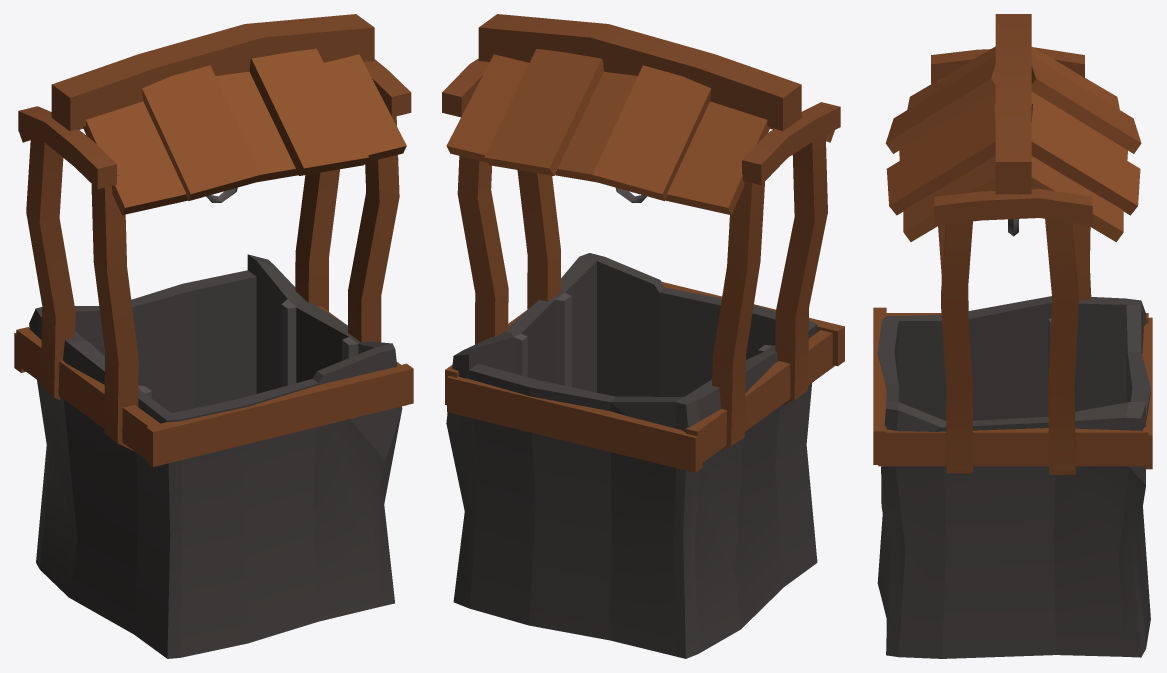
Rendered from Mine_Elevator.fbx.
3 renders of one model, left to right at view 1: azimuth 30°, elevation 25°; view 2: azimuth 150°, elevation 25°; view 3: azimuth 270°, elevation 25°, orthographic. The views are drawn at different scales.
Visible parts, largest first — view 1: Mine_Elevator; view 2: Mine_Elevator; view 3: Mine_Elevator.
Boxes of the visible parts, x1,y1,x2,y2 form: Mine_Elevator: [14, 14, 413, 658]; Mine_Elevator: [442, 14, 844, 658]; Mine_Elevator: [873, 14, 1152, 658].
Size of the model in its own units: 138 by 228 by 109.
1 material, 1 textured.
